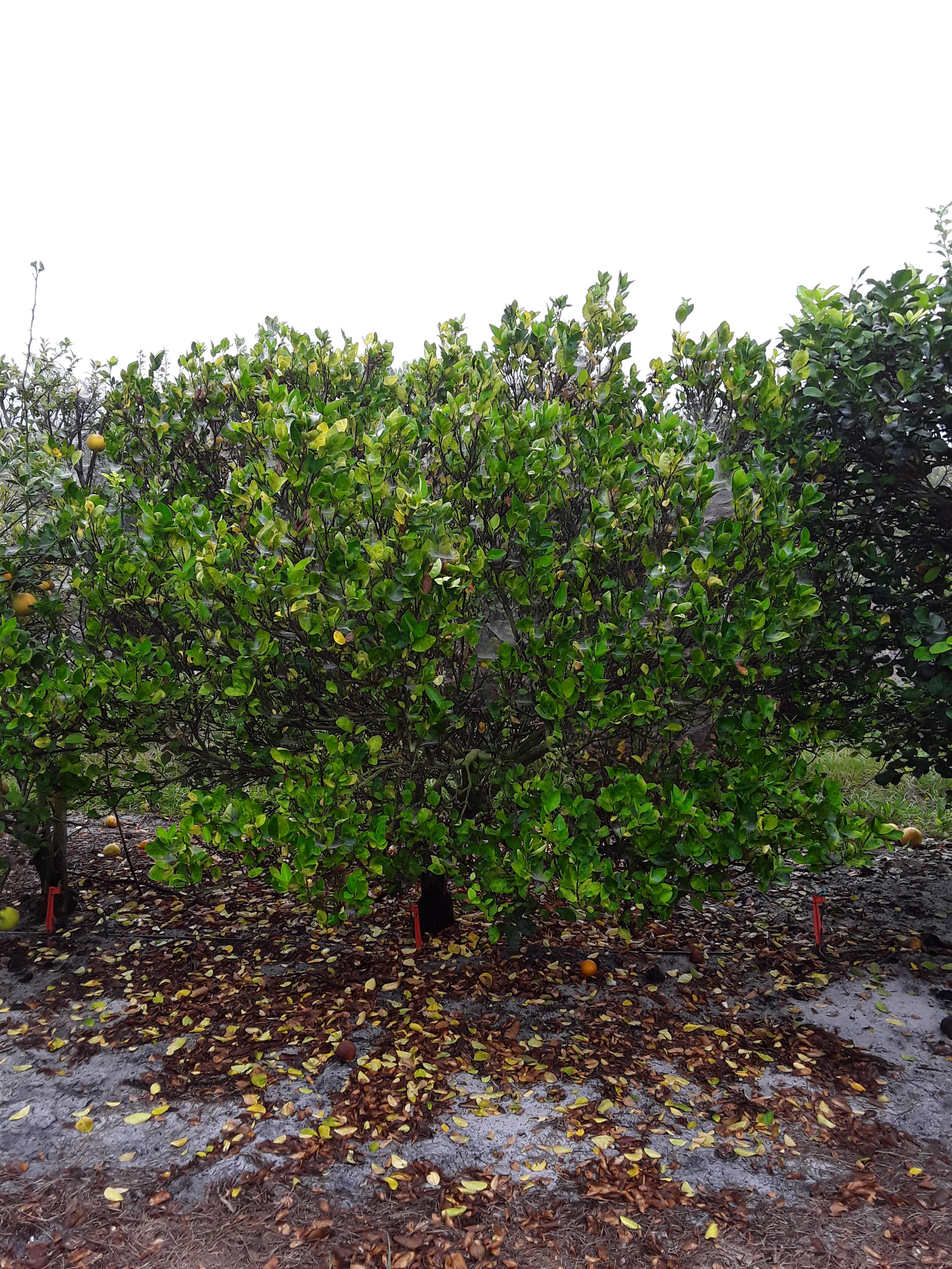fruit_on_ground: (9, 590, 38, 618), (0, 902, 23, 933), (84, 430, 108, 454), (2, 566, 17, 584), (37, 579, 51, 593), (44, 579, 56, 592)
fruit_on_tree: (332, 1037, 359, 1065), (899, 823, 925, 849), (876, 820, 904, 844), (577, 955, 601, 981), (100, 839, 125, 860), (684, 946, 707, 967), (903, 933, 924, 954), (102, 813, 119, 829), (137, 838, 153, 852)
